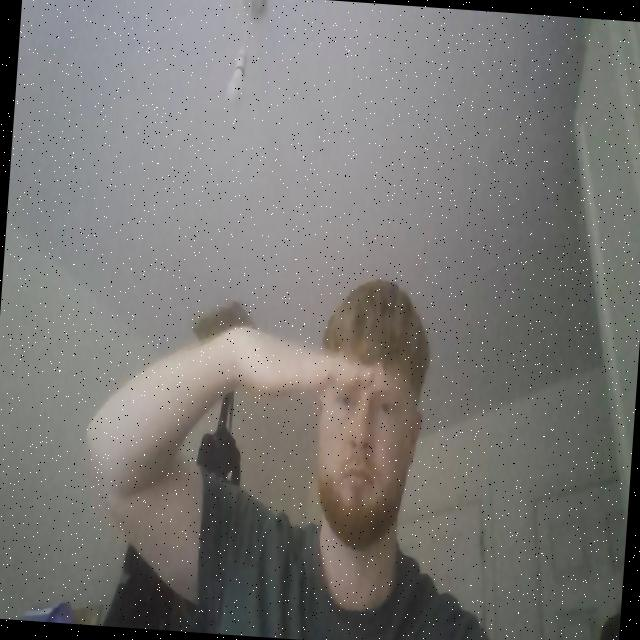papper: (200, 322, 378, 422)
